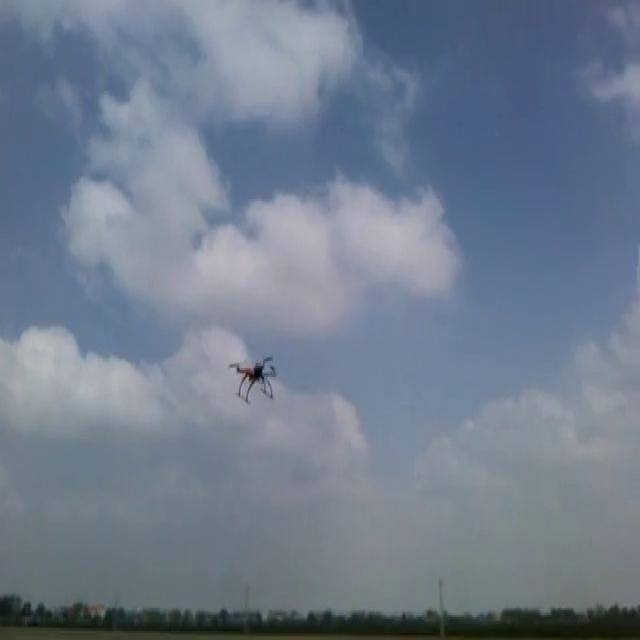drone: (226, 348, 278, 406)
